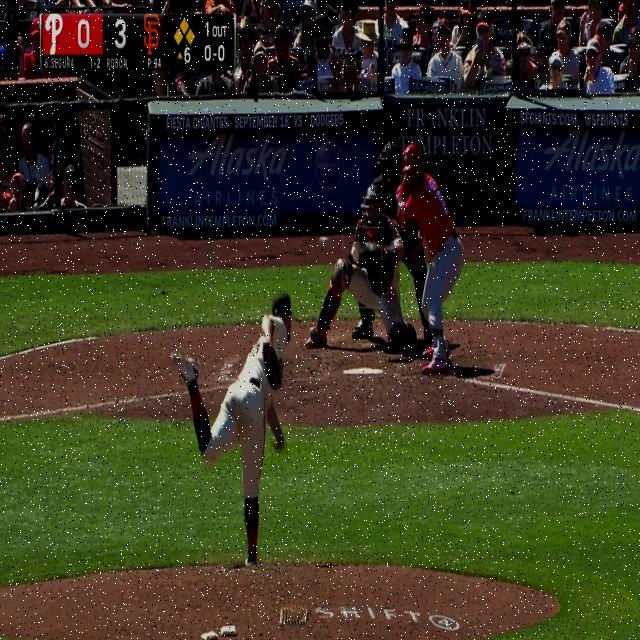baseball: (320, 236, 328, 247)
